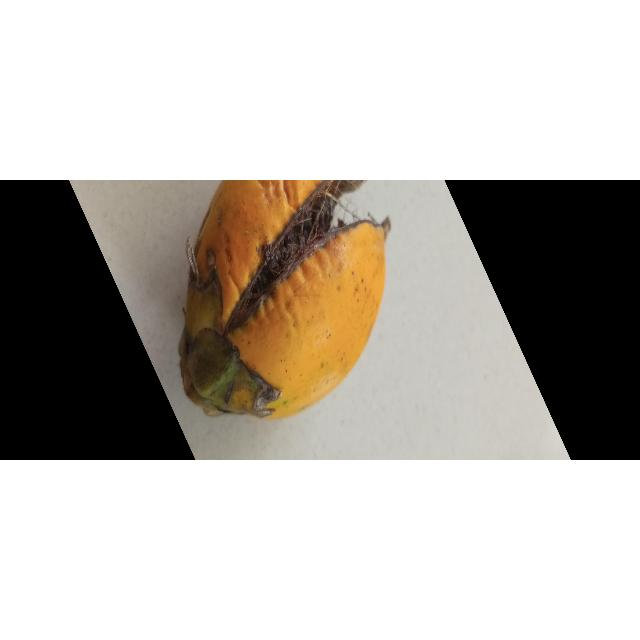damaged: (179, 180, 391, 419)
